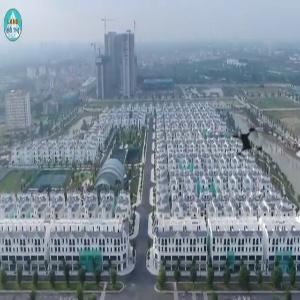drone: (209, 107, 285, 183)
